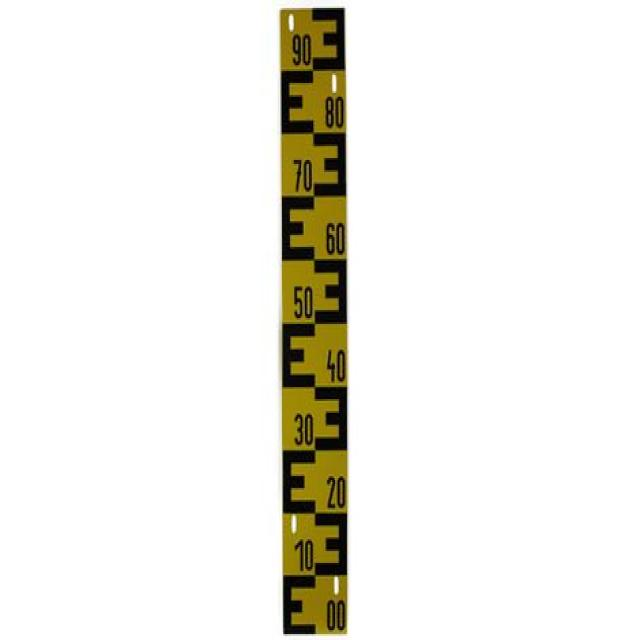10: (295, 537, 316, 570)
20: (324, 473, 347, 512)
30: (291, 408, 314, 448)
40: (322, 346, 346, 382)
50: (291, 283, 316, 320)
60: (323, 217, 348, 261)
70: (292, 155, 315, 195)
80: (322, 91, 343, 131)
90: (291, 32, 312, 70)
staff: (280, 8, 348, 635)
